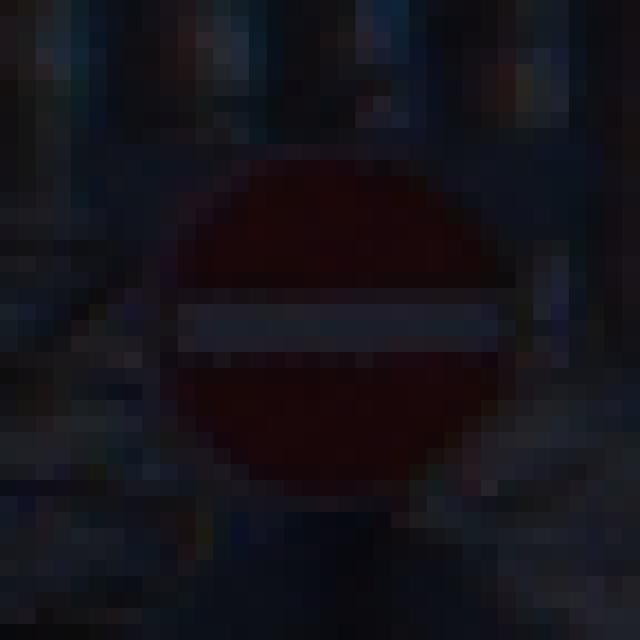No Entry: (108, 97, 552, 561)
